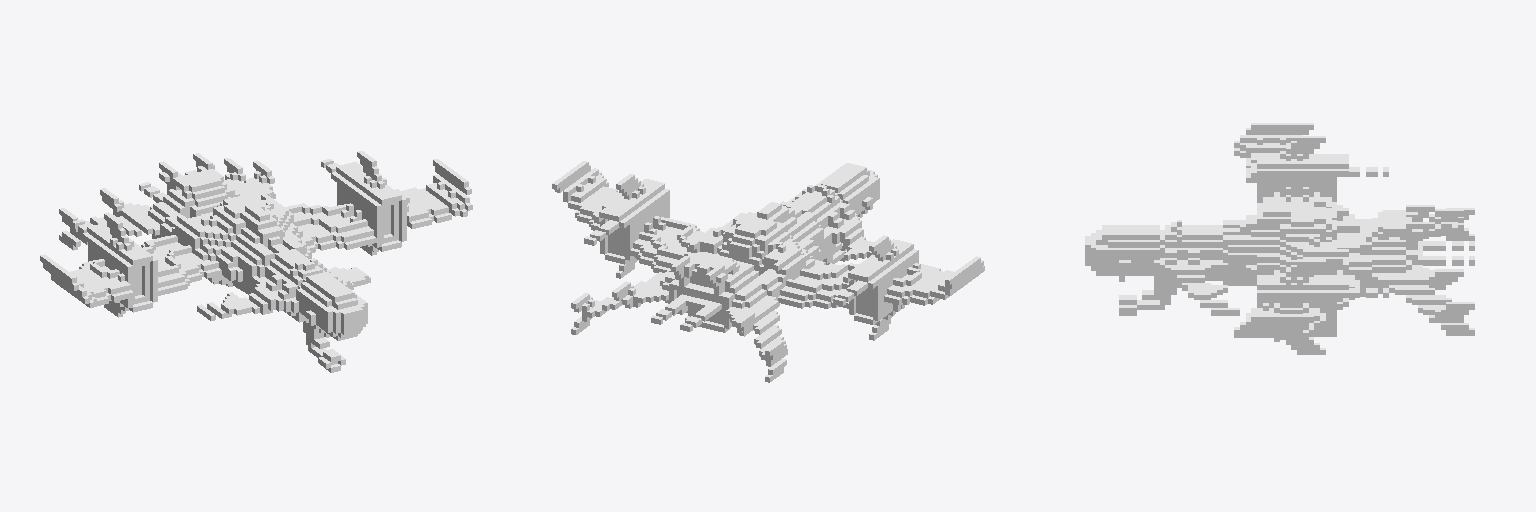
The model's file is ship2.obj.
3 views of the same model, side by side, from view 1: azimuth 30°, elevation 25°; view 2: azimuth 150°, elevation 25°; view 3: azimuth 270°, elevation 25° (orthographic).
Visible parts, largest first — view 1: object 1; view 2: object 1; view 3: object 1.
Part boxes in pixels (bbox=[...]): object 1: bbox=[40, 151, 472, 372]; object 1: bbox=[552, 161, 984, 382]; object 1: bbox=[1085, 123, 1474, 354].
Size of the model in its own units: 8 by 2.2 by 6.8.